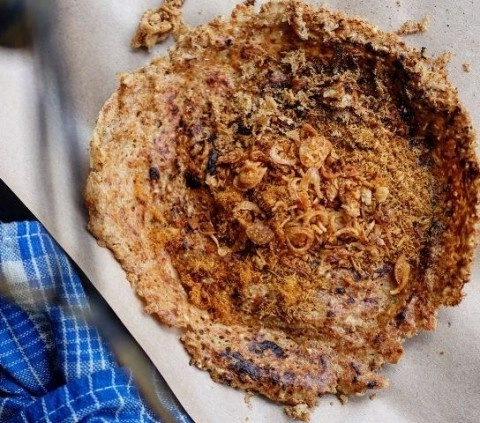kerak_telor: (82, 2, 480, 407)
